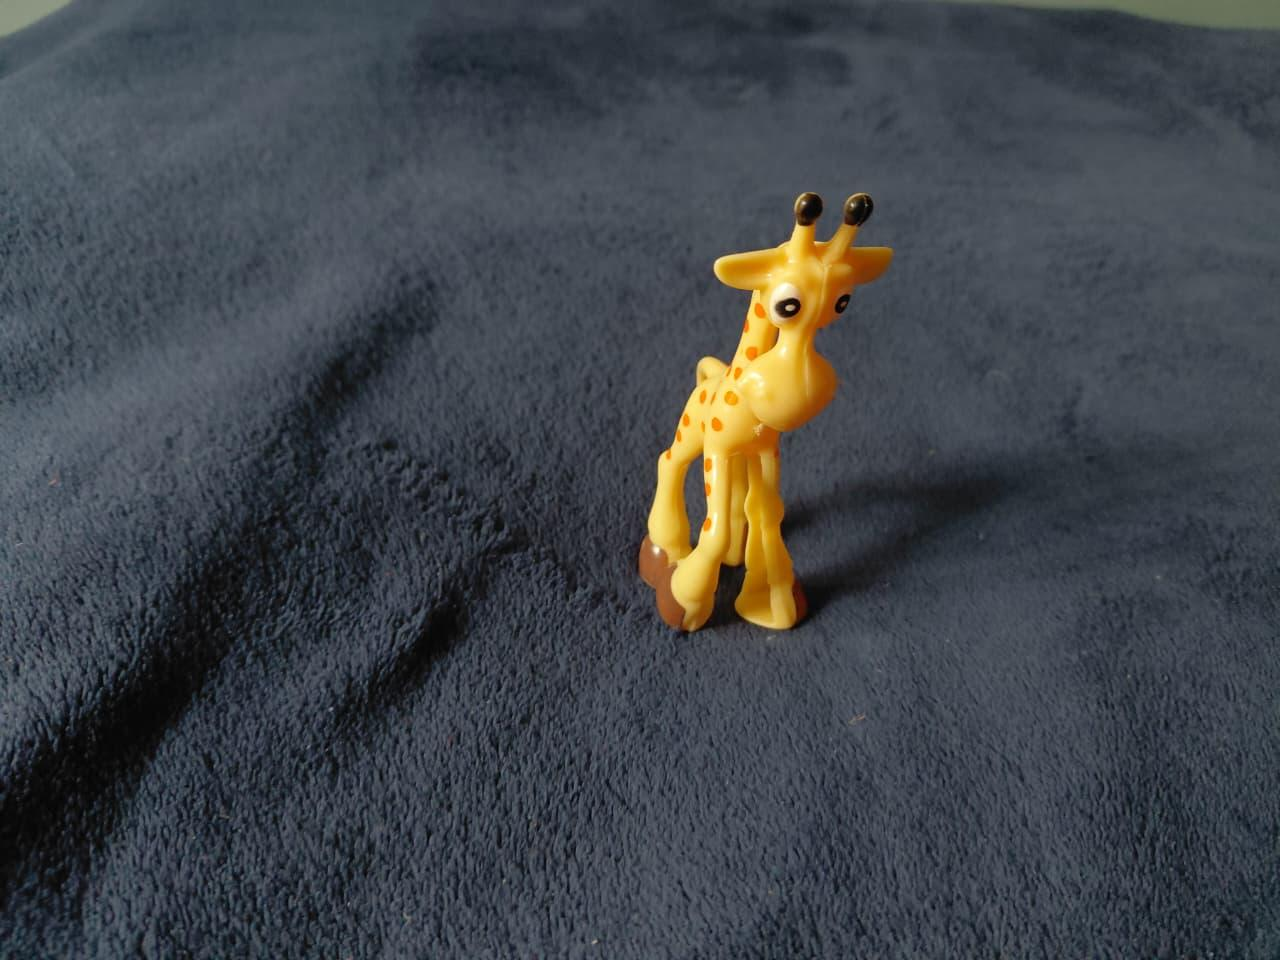giraffe: (634, 168, 894, 659)
